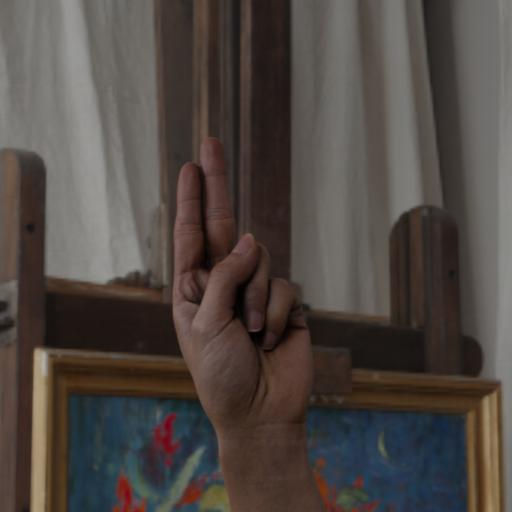U: (162, 122, 322, 438)
